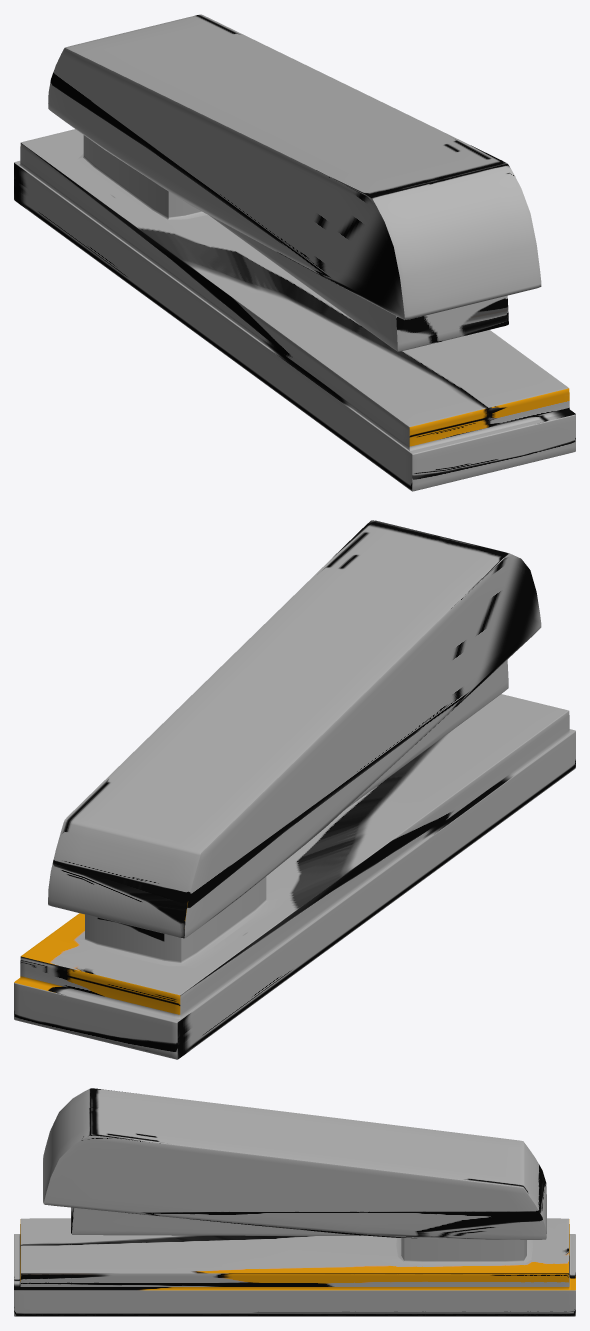
Rendered from SteplesJadi.fbx.
The picture shows the model from 3 angles, top to bottom: view 1: azimuth 30°, elevation 25°; view 2: azimuth 150°, elevation 25°; view 3: azimuth 270°, elevation 25°; orthographic projection. The views are drawn at different scales.
Parts seen in each view (by area): view 1: Cube; view 2: Cube; view 3: Cube.
Part boxes in pixels (box(x1,y1,x2,y2)): Cube: box(14, 14, 575, 491); Cube: box(14, 520, 575, 1059); Cube: box(14, 1088, 575, 1316).
Size of the model in its own units: 72.18 by 106 by 304.
